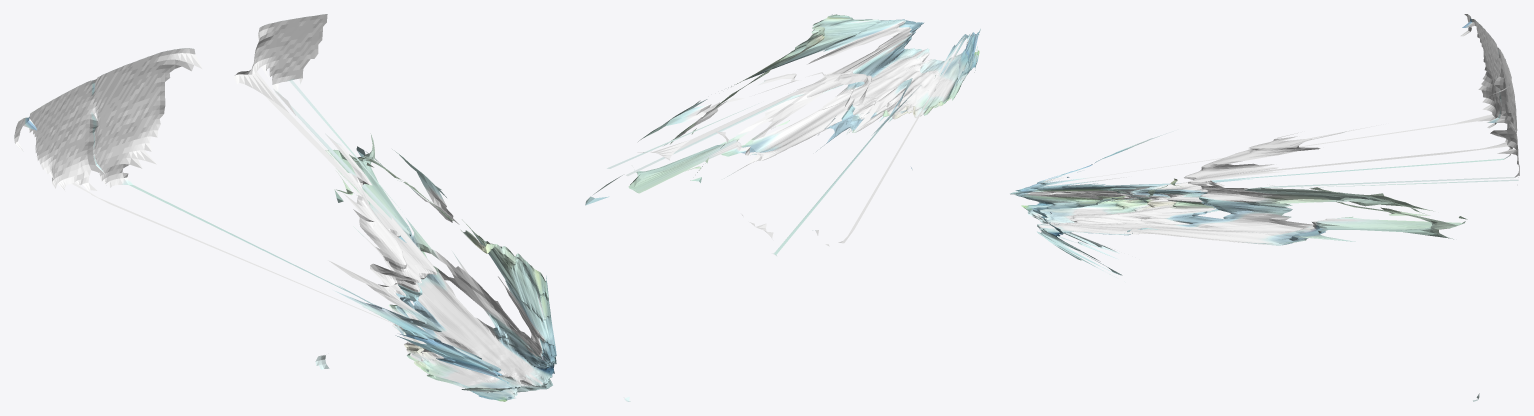
3 renders of one model, left to right at view 1: azimuth 30°, elevation 25°; view 2: azimuth 150°, elevation 25°; view 3: azimuth 270°, elevation 25°, orthographic. The views are drawn at different scales.
Visible parts, largest first — view 1: defaultobject; view 2: defaultobject; view 3: defaultobject.
Boxes of the visible parts, x1,y1,x2,y2 form: defaultobject: (14, 14, 556, 401); defaultobject: (585, 14, 980, 401); defaultobject: (1010, 14, 1519, 401).
Size of the model in its own units: 29.52 by 26.76 by 45.38.
Materials: 1 (1 with a texture image).
